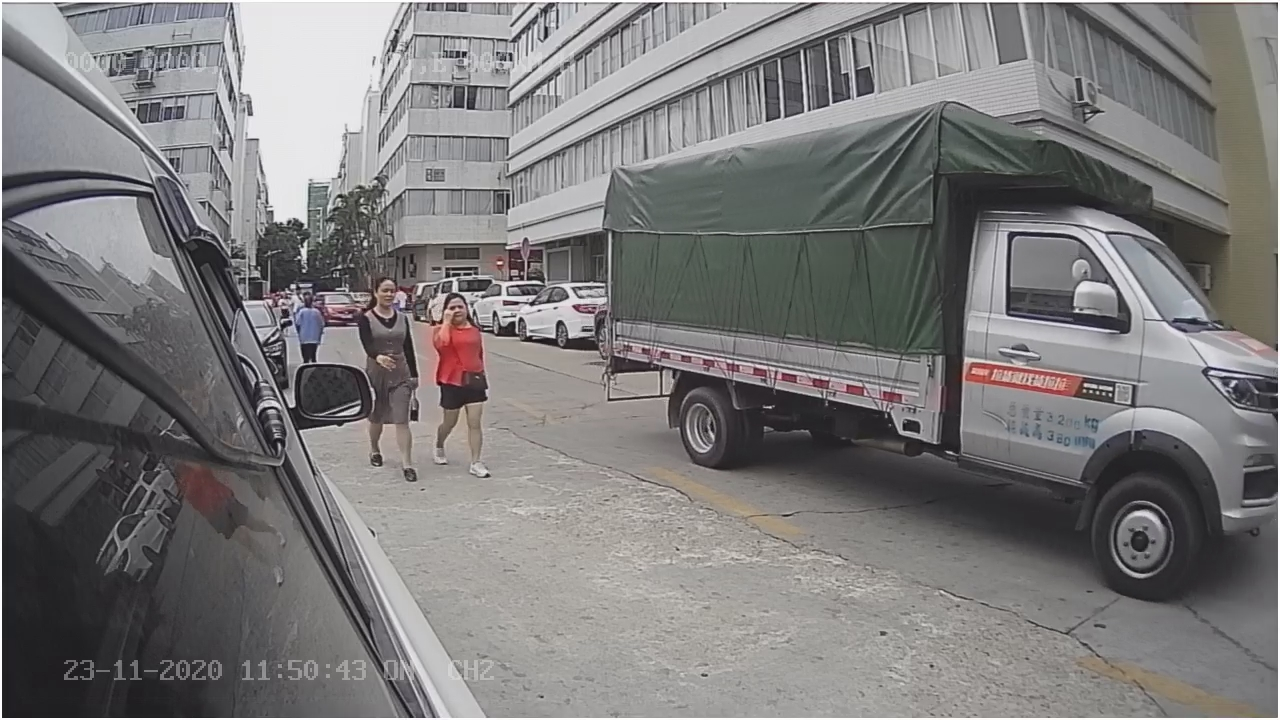person: (434, 282, 497, 479)
